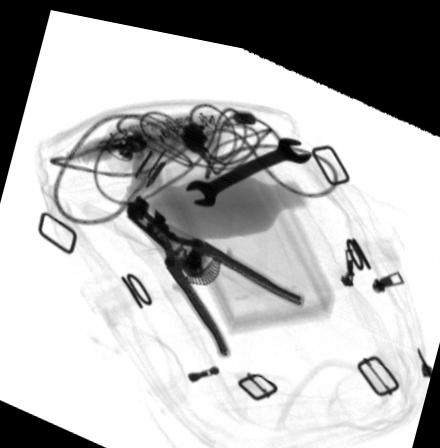Pliers: (121, 185, 304, 349)
Wrench: (184, 124, 309, 198)
